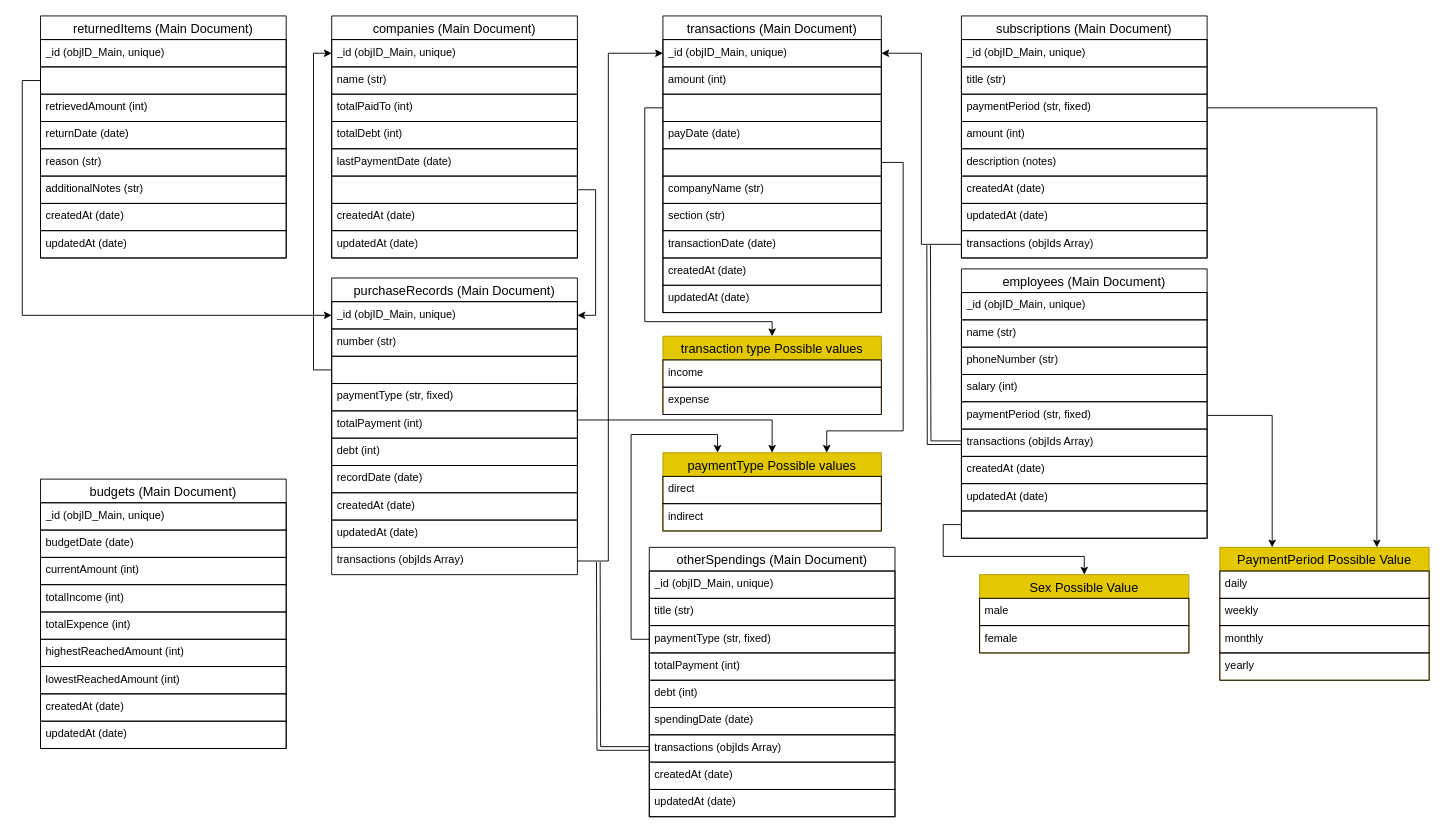
The diagram is 1445 pixels wide and 835 high, and some of its shapes have lost their labels. The centre of each missing label's shape, as x and y in pixels:
"companyId (objId_ref)" belongs at [454,369].
"paymentType (str, fixed values)" belongs at [771,162].
"purchaseRecordId (objid_ref)" belongs at [163,80].
"purchaseRecords (array, objIds)" belongs at [454,189].
"sex (str, fixed values)" belongs at [1084,524].
"type (str, fixed values)" belongs at [771,107].
